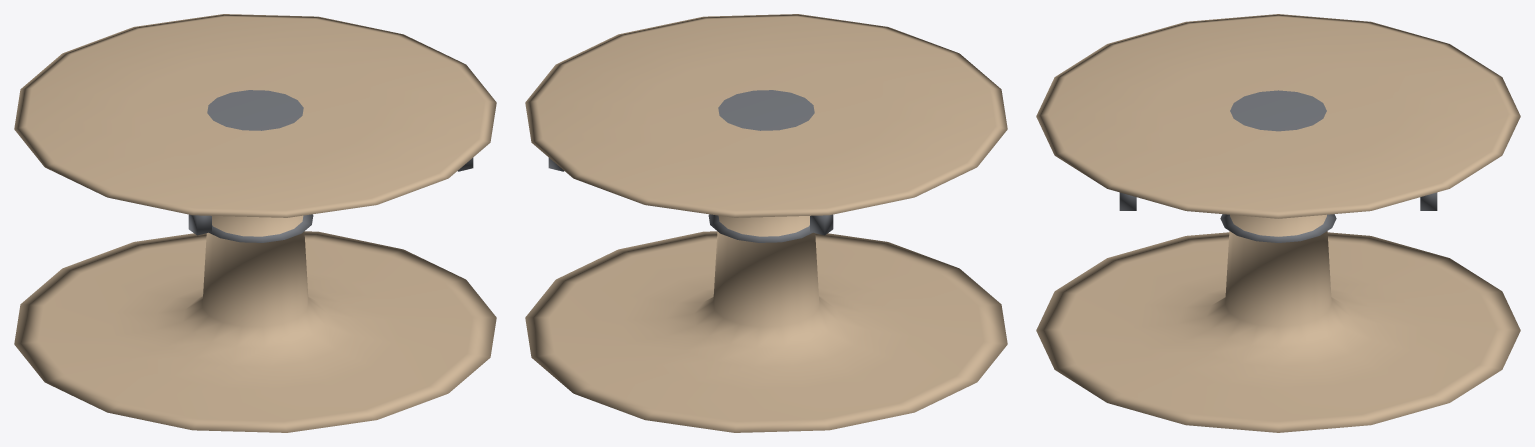
File: lamp.glb
The picture shows the model from 3 angles, left to right: view 1: azimuth 30°, elevation 25°; view 2: azimuth 150°, elevation 25°; view 3: azimuth 270°, elevation 25°; orthographic projection.
Parts seen in each view (by area): view 1: lamp; view 2: lamp; view 3: lamp.
Boxes of the visible parts, left/top/right/bottom form: lamp: left=14, top=14, right=496, bottom=432; lamp: left=525, top=14, right=1007, bottom=432; lamp: left=1036, top=14, right=1520, bottom=432.
Bounding box in the file's own units: 2 × 1 × 2.
